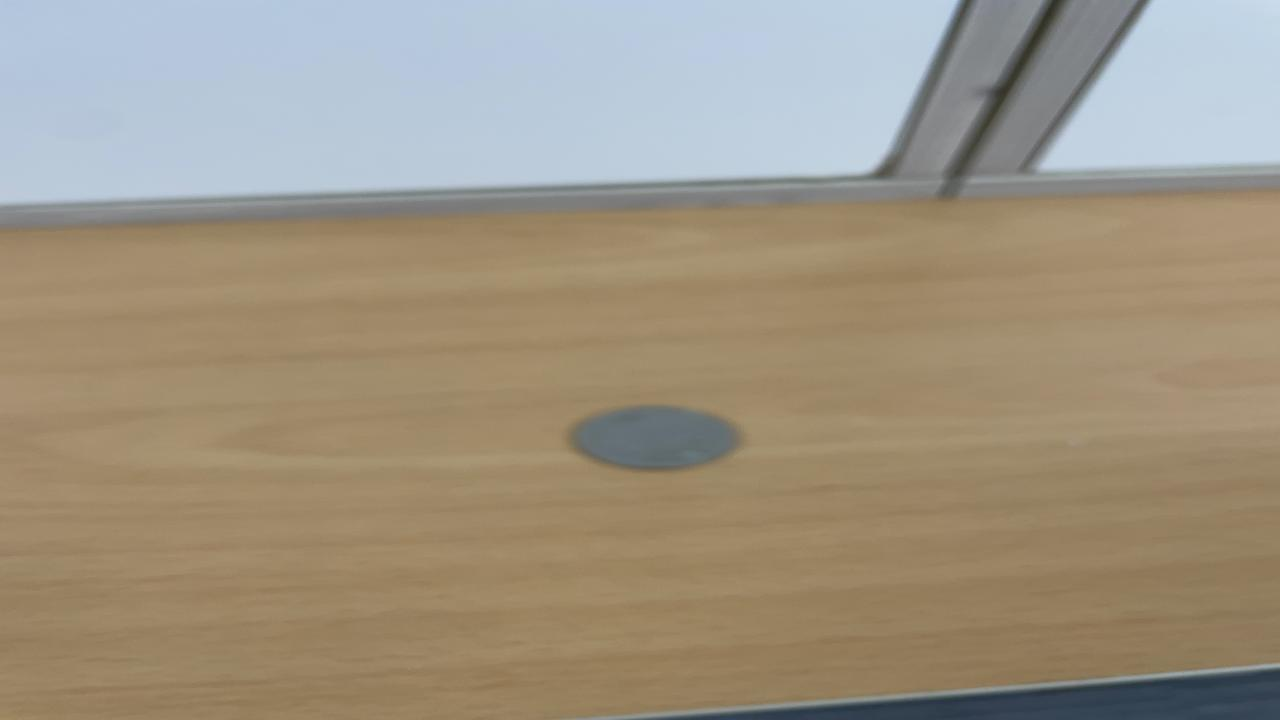coin: (565, 403, 743, 472)
